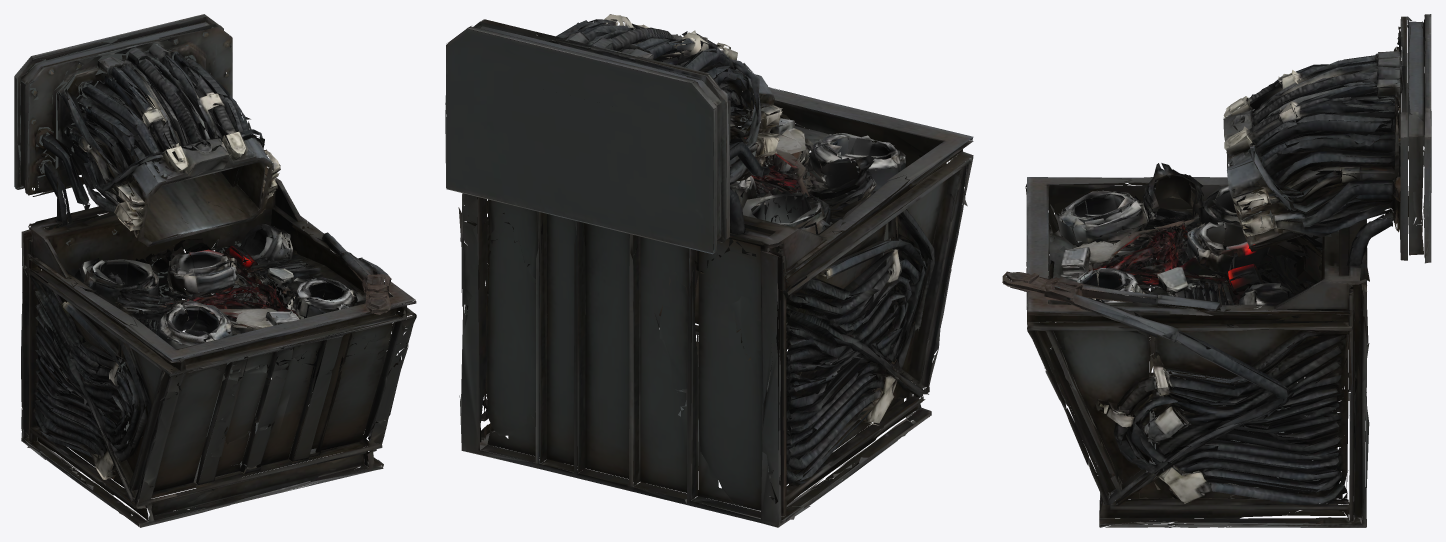
File: corp_biometric_collar_chute.glb
3 renders of one model, left to right at view 1: azimuth 30°, elevation 25°; view 2: azimuth 150°, elevation 25°; view 3: azimuth 270°, elevation 25°, orthographic. The views are drawn at different scales.
Visible parts, largest first — view 1: node_0; view 2: node_0; view 3: node_0.
Boxes of the visible parts, <box> form: node_0: <box>14,14,416,527</box>; node_0: <box>445,14,973,527</box>; node_0: <box>1002,14,1431,527</box>.
Size of the model in its own units: 0.6299 by 0.8094 by 0.7812.
Materials: 1 (1 with a texture image).
